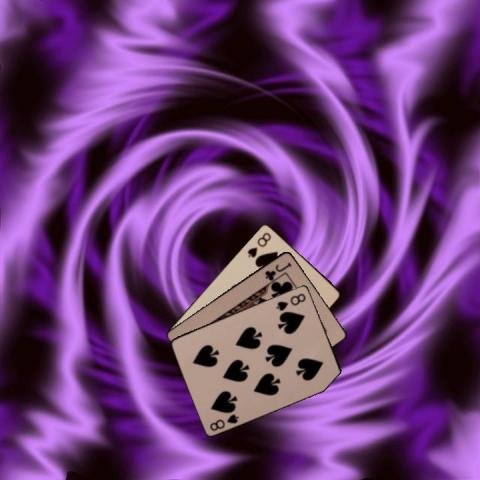8s: (244, 228, 273, 258), (274, 290, 308, 312), (207, 411, 240, 432)
Jc: (262, 260, 293, 282)
